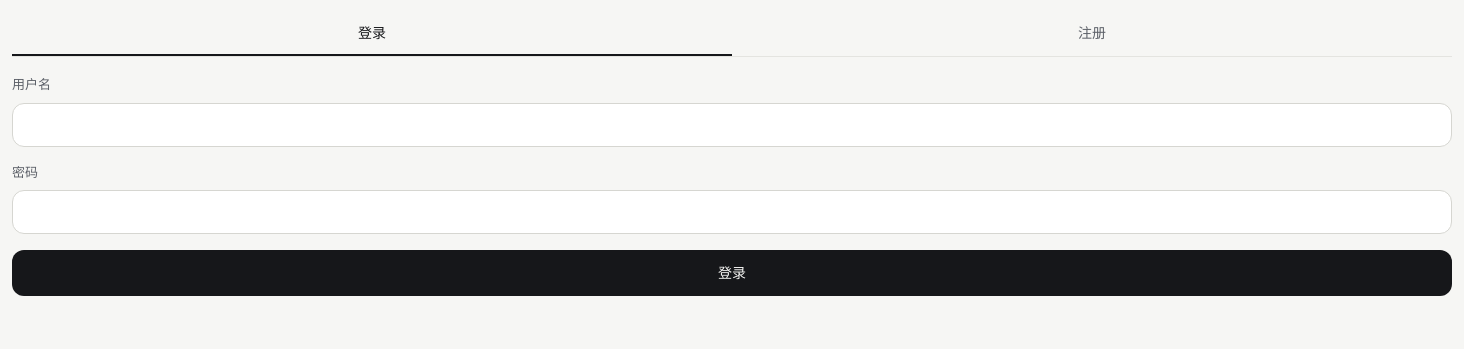
Scenario: shared login/register form › validates 用户名 / password length before fetching
Type "用户名" into the field labelled "用户名". click: x=732, y=124
box: left=12, top=102, right=1452, bottom=146
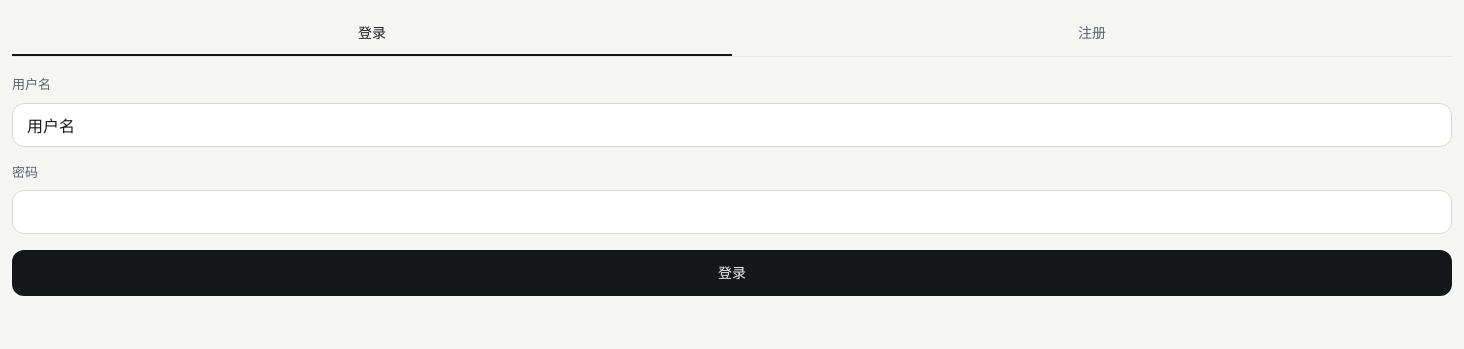
Type "12345678" into the password field labelled "密码". click: x=732, y=212
box: left=12, top=190, right=1452, bottom=234
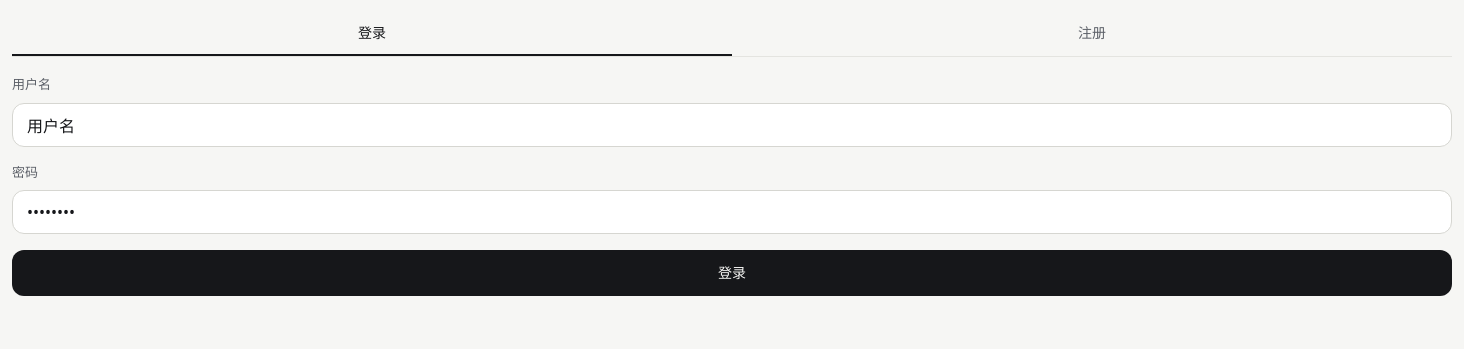
Click the button "登录". click: x=732, y=273
box: left=12, top=250, right=1452, bottom=296
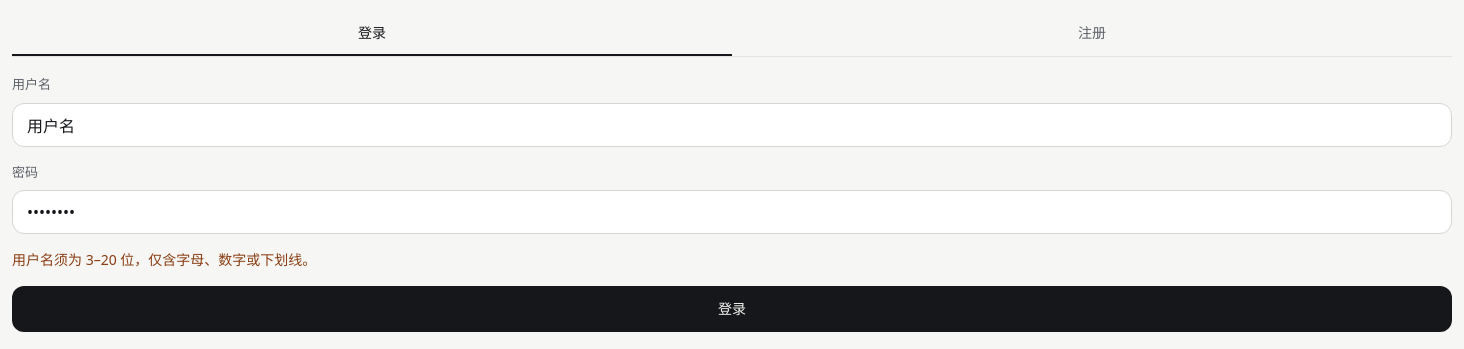
expect the message shows "用户名": met, box left=12, top=250, right=316, bottom=269
